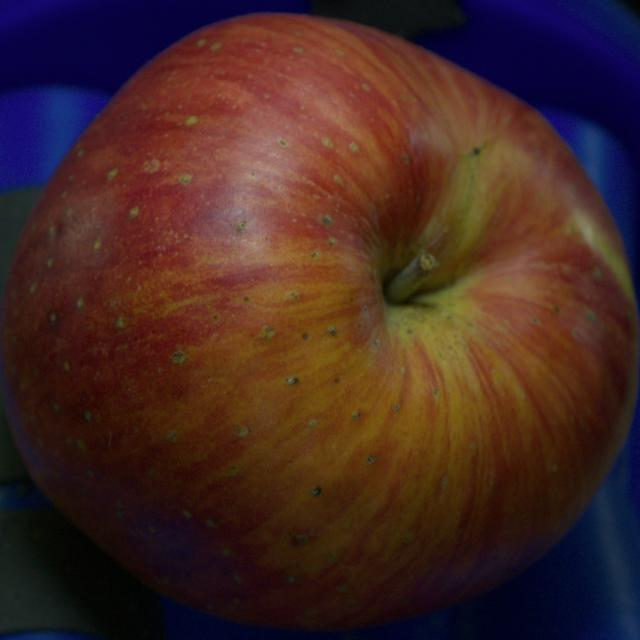apple: (0, 14, 639, 629)
pest: (172, 351, 188, 364), (310, 486, 321, 497), (49, 312, 57, 324), (469, 151, 480, 158), (238, 221, 245, 231), (288, 378, 298, 384)
